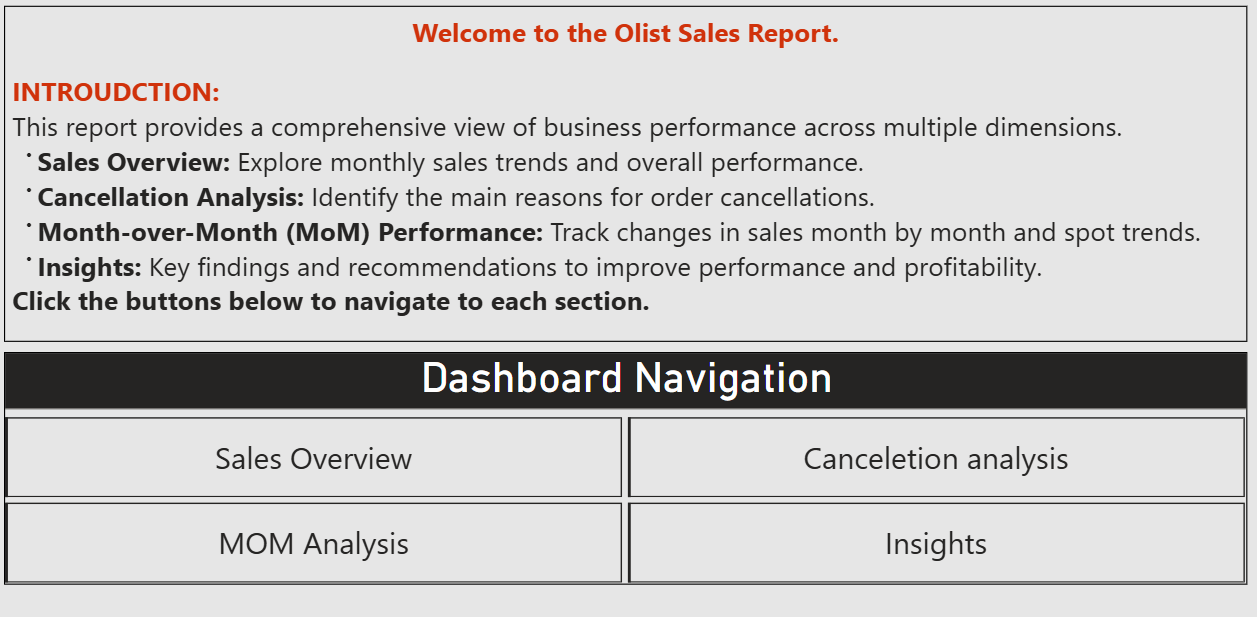

The dashboard page shown, as its layout file describes it:
{"tool":"powerbi","page":{"name":"Navigation","canvas":[950,500],"ordinal":0},"visuals":[{"type":"pageNavigator","title":"Dashboard Navigation","box":[32.5,284.5,884.9,165.5],"z":0},{"type":"textbox","box":[32.5,37.9,884.9,239.1],"z":1000}]}

Visuals, with their boxes on the page's 950x500 design canvas (x1, y1, x2, y2). These are canvas units, not pixel positions in the 1257x617 screenshot, which may show the page scaled, cropped or inside an application window:
"Dashboard Navigation" pageNavigator: <region>32, 284, 917, 450</region>
textbox: <region>32, 38, 917, 277</region>
